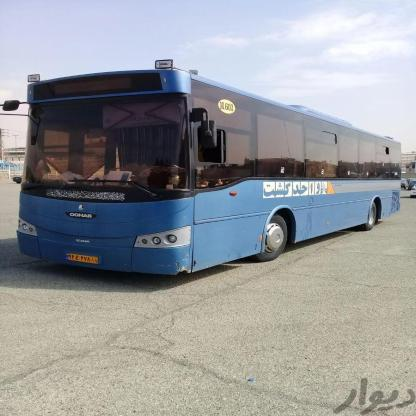Bus: (0, 51, 416, 277)
